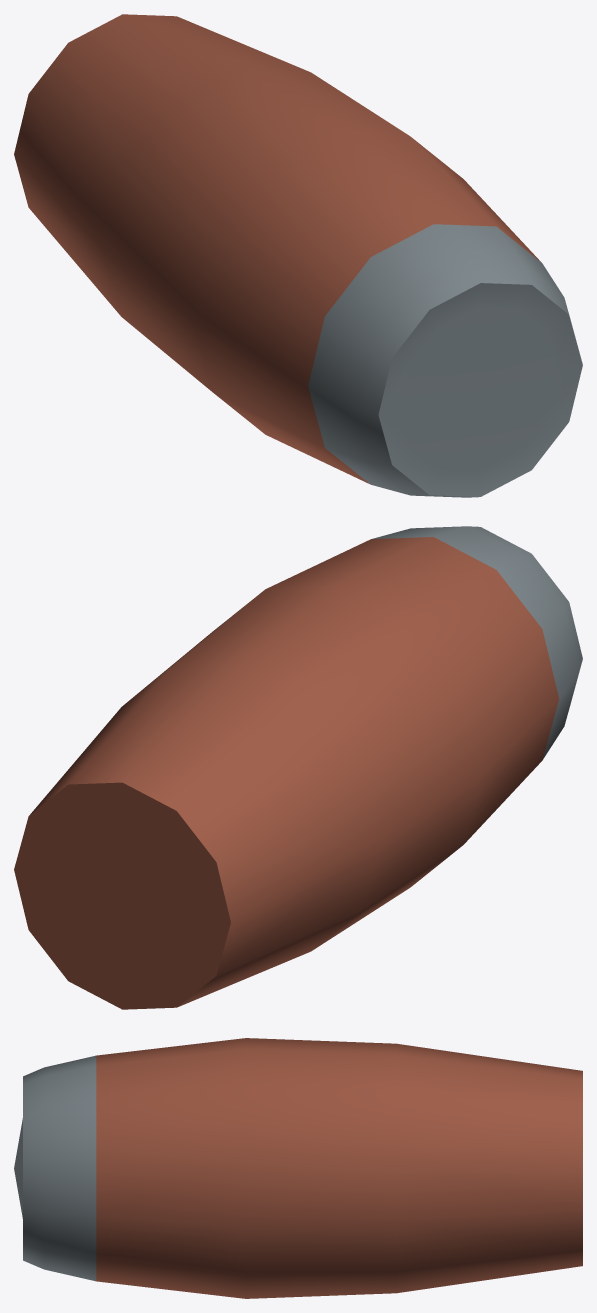
Rendered from cigar.gltf.glb.
The picture shows the model from 3 angles, top to bottom: view 1: azimuth 30°, elevation 25°; view 2: azimuth 150°, elevation 25°; view 3: azimuth 270°, elevation 25°; orthographic projection. The views are drawn at different scales.
Visible parts, largest first — view 1: cigar; view 2: cigar; view 3: cigar.
Part boxes in pixels (<box>): cigar: <box>14,14,582,497</box>; cigar: <box>14,526,582,1009</box>; cigar: <box>14,1038,582,1298</box>.
Bounding box in the file's own units: 0.126 × 0.126 × 0.2736.
